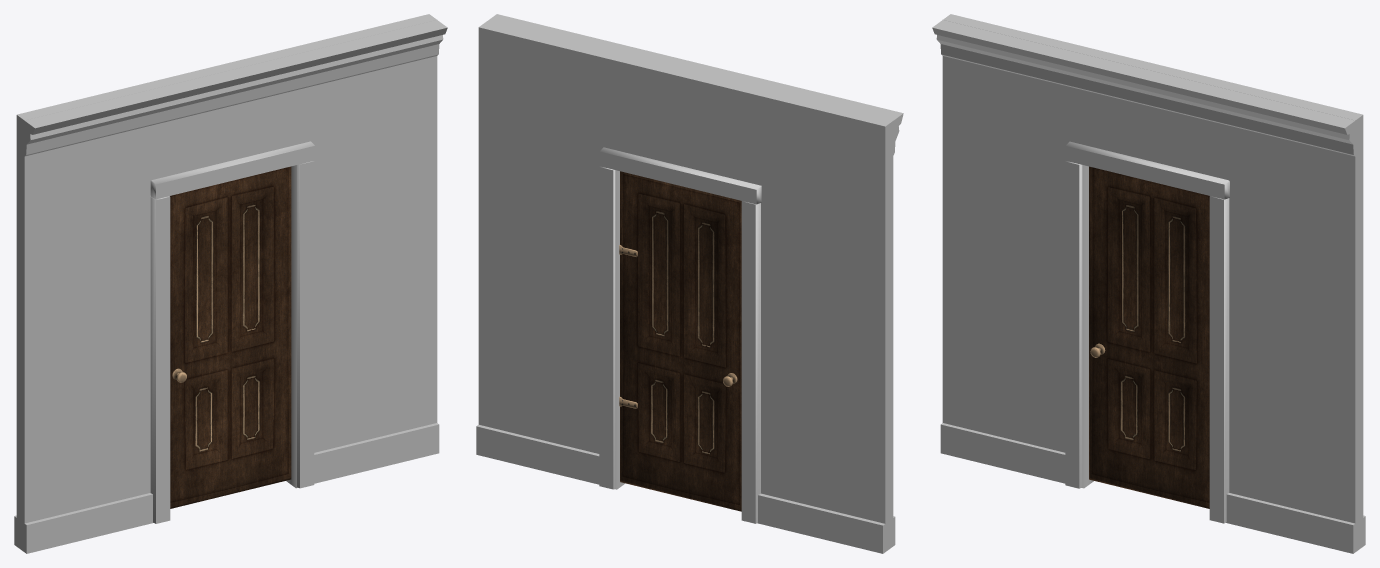
The model's file is Puerta Baño.fbx.
3 renders of one model, left to right at view 1: azimuth 30°, elevation 25°; view 2: azimuth 150°, elevation 25°; view 3: azimuth 330°, elevation 25°, orthographic.
Parts seen in each view (by area): view 1: Pared puerta, Door, Wall_Doorway_Door; view 2: Pared puerta, Door, Wall_Doorway_Door; view 3: Pared puerta, Door, Wall_Doorway_Door.
Boxes of the visible parts, x1,y1,x2,y2 form: Pared puerta: (14,14,447,553); Door: (170,166,291,508); Wall_Doorway_Door: (150,141,314,523); Pared puerta: (476,14,903,553); Door: (619,171,741,511); Wall_Doorway_Door: (599,147,761,523); Pared puerta: (932,14,1365,553); Door: (1089,166,1209,508); Wall_Doorway_Door: (1065,141,1229,523).
Bounding box in the file's own units: 3 × 3 × 0.3078.
